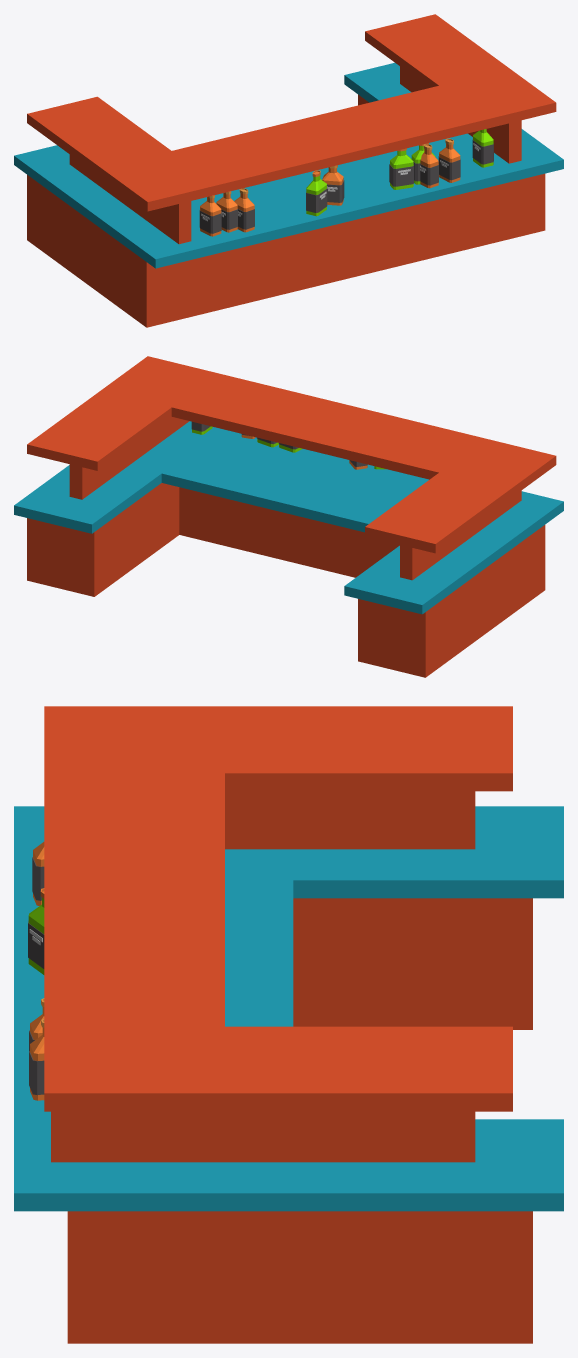
The model's file is TG_zhuanjiaozhuo.FBX.
3 renders of one model, top to bottom at view 1: azimuth 30°, elevation 25°; view 2: azimuth 150°, elevation 25°; view 3: azimuth 270°, elevation 25°, orthographic. The views are drawn at different scales.
Parts seen in each view (by area): view 1: zhuanjiaozhuo; view 2: zhuanjiaozhuo; view 3: zhuanjiaozhuo.
Boxes of the visible parts, bbox=[...] form: zhuanjiaozhuo: bbox=[14, 14, 563, 327]; zhuanjiaozhuo: bbox=[14, 356, 563, 677]; zhuanjiaozhuo: bbox=[14, 706, 563, 1343].
Bounding box in the file's own units: 183 × 56.23 × 110.
